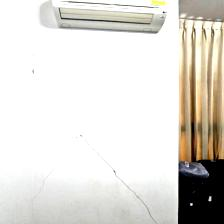High: (10, 51, 164, 224)
